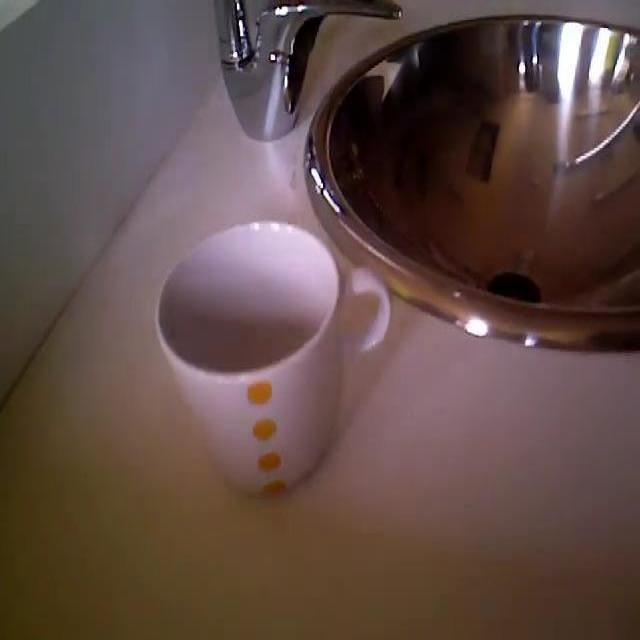cup: (153, 220, 394, 495)
